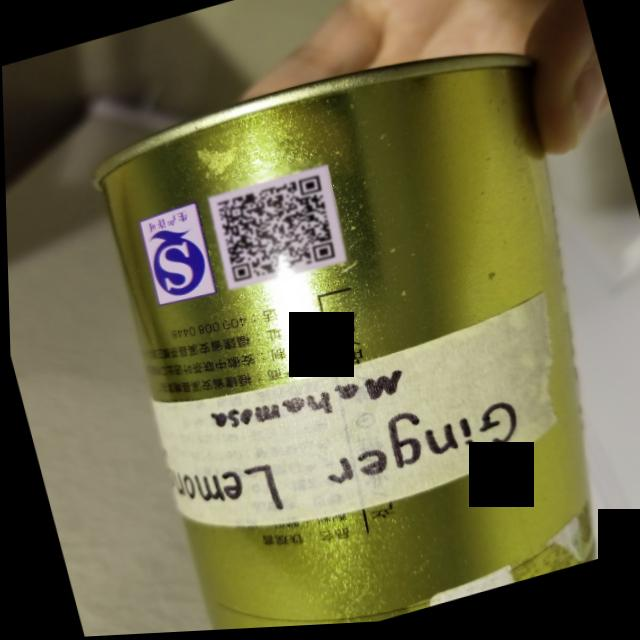QR_CODE: (192, 157, 351, 302)
